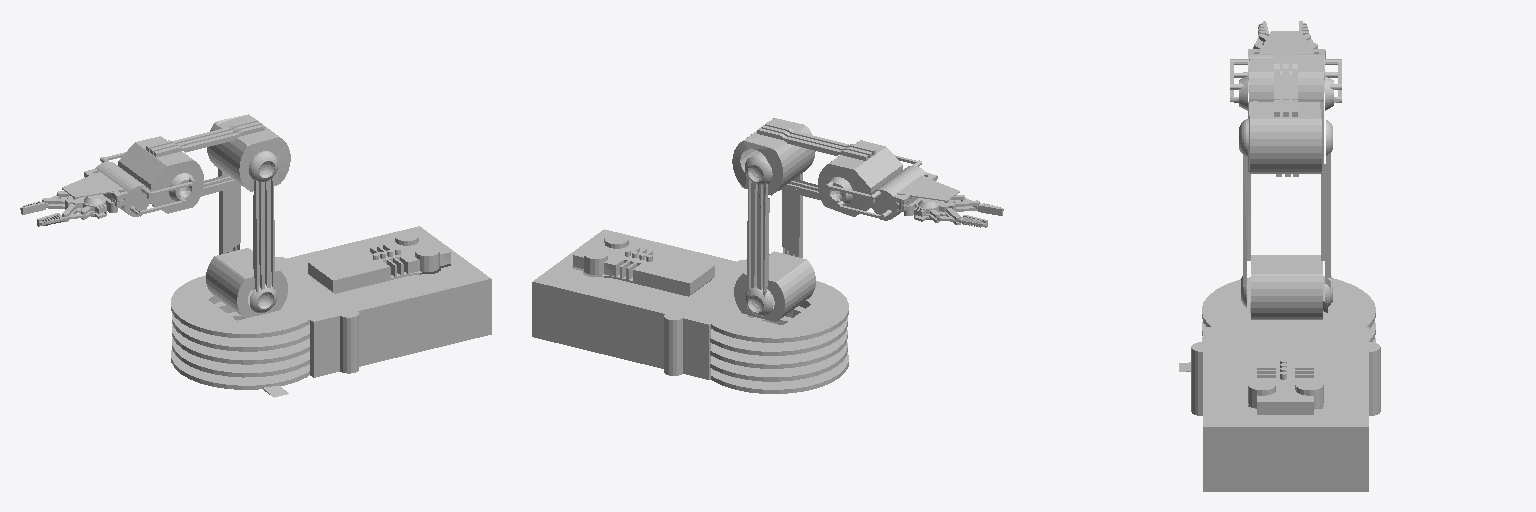
robot.urdf — test_robot:
<robot name="test_robot">
  <link name="base_link">
    <visual>
      <geometry>
          <mesh filename="package://owi535/meshes/accupack.dae"/>
      </geometry>
    </visual>
  </link>

  <link name="base" >
    <visual>
      <geometry>
          <mesh filename="package://owi535/meshes/shoulder.dae"/>
      </geometry>
    </visual>
  </link>

  <link name="humerus" >
    <visual>
      <geometry>
          <mesh filename="package://owi535/meshes/humerus.dae"/>
      </geometry>
    </visual>
  </link>

  <link name="radius" >
    <visual>
      <geometry>
          <mesh filename="package://owi535/meshes/radius.dae"/>
      </geometry>
    </visual>
  </link>

  <link name="gripper_base" >
    <visual>
      <geometry>
          <mesh filename="package://owi535/meshes/gripper_base.dae"/>
      </geometry>
    </visual>
  </link>

  <link name="gripper_left" >
    <visual>
      <geometry>
          <mesh filename="package://owi535/meshes/gripper_left.dae"/>
      </geometry>
    </visual>
  </link>

  <link name="gripper_right" >
    <visual>
      <geometry>
          <mesh filename="package://owi535/meshes/gripper_right.dae"/>
      </geometry>
    </visual>
  </link>

  <joint name="rotationbase" type="revolute">
    <parent link="base_link"/>
    <child link="base"/>
    <origin xyz="0 0 21" rpy="0 0 0" />
    <axis xyz="0 0 1" />
    <limit lower="-2.57" upper="2.57" effort="3" velocity="1.178465545" />
  </joint>

  <joint name="shoulder" type="revolute">
    <parent link="base"/>
    <child link="humerus"/>
    <origin xyz="0 0 7" rpy="0 0 0" />
    <axis xyz="0 1 0" />
    <limit lower="-1.57" upper="1.27" effort="3" velocity="1.178465545" />
  </joint>

  <joint name="elbow" type="revolute">
    <parent link="humerus"/>
    <child link="radius"/>
    <origin xyz="0 0 50" rpy="0 0 0" />
    <axis xyz="0 1 0" />
    <limit lower="-1.00" upper="4.34" effort="3" velocity="1.178465545" />
  </joint>

  <joint name="wrist" type="revolute">
    <parent link="radius"/>
    <child link="gripper_base"/>
    <origin xyz="-50 0 0" rpy="0 0 0" />
    <axis xyz="0 1 0" />
    <limit lower="-1.57" upper="1.57" effort="3" velocity="1.178465545" />
  </joint>

  <joint name="wrist_left" type="prismatic">
    <parent link="gripper_base"/>
    <child link="gripper_left"/>
    <origin rpy="0.0 0 0" xyz="0 0 0"/>
    <axis xyz="0 1 0" />
    <limit lower="-4.00" upper="4.00" effort="3" velocity="1.178465545" />
  </joint>

  <joint name="wrist_right" type="prismatic">
    <mimic joint="wrist_left" multiplier="-1.0" />
    <parent link="gripper_base"/>
    <child link="gripper_right"/>
    <origin rpy="0.0 0 0" xyz="0 0 0"/>
    <axis xyz="0 1 0" />
    <limit lower="-4.00" upper="4.00" effort="3" velocity="1.178465545" />
  </joint>

</robot>

--- Facts derived from the render (not from the file) ---
Views: 3 orthographic renders of the robot side by side, from view 1: azimuth 30°, elevation 25°; view 2: azimuth 150°, elevation 25°; view 3: azimuth 270°, elevation 25°.
Robot: test_robot — 7 links, 6 joints (4 revolute, 2 prismatic); root link base_link; default pose: all joints at 0.
Visible links, largest first — view 1: base_link, radius, humerus, gripper_base, base, gripper_left, gripper_right; view 2: base_link, radius, humerus, gripper_base, base, gripper_right, gripper_left; view 3: base_link, radius, base, humerus, gripper_base.
Boxes of the visible links, x1,y1,x2,y2 form: base_link: (171, 226, 491, 397); radius: (100, 114, 290, 215); humerus: (218, 151, 277, 312); gripper_base: (62, 162, 153, 218); base: (206, 248, 287, 318); gripper_left: (37, 204, 96, 226); gripper_right: (20, 191, 69, 214); base_link: (532, 229, 848, 393); radius: (732, 118, 921, 219); humerus: (745, 156, 802, 316); gripper_base: (868, 166, 959, 221); base: (734, 251, 815, 321); gripper_right: (925, 208, 987, 227); gripper_left: (951, 195, 1003, 215); base_link: (1179, 276, 1380, 491); radius: (1230, 52, 1341, 176); base: (1251, 255, 1322, 319); humerus: (1239, 119, 1332, 307); gripper_base: (1248, 31, 1325, 92).
Size in the robot's own frame: 172 by 60.74 by 89.6 metres.
Meshes: 7 distinct files referenced, 7 mesh visuals loaded (7 Collada DAE).
